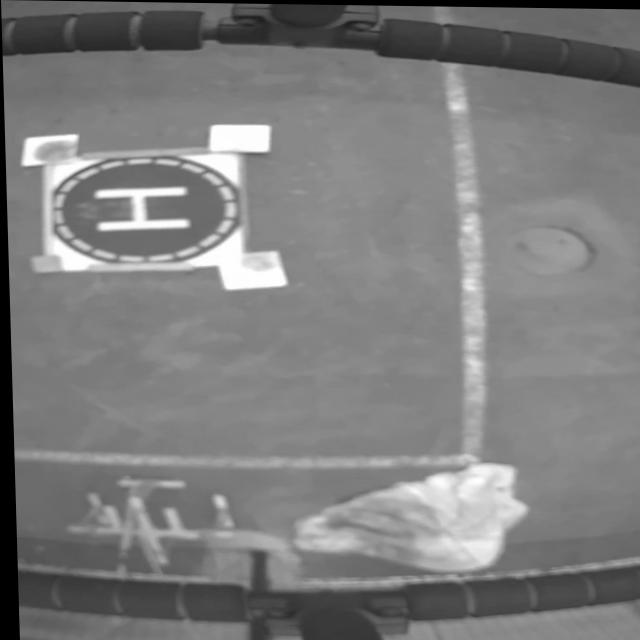Helipad: (93, 185, 189, 231)
